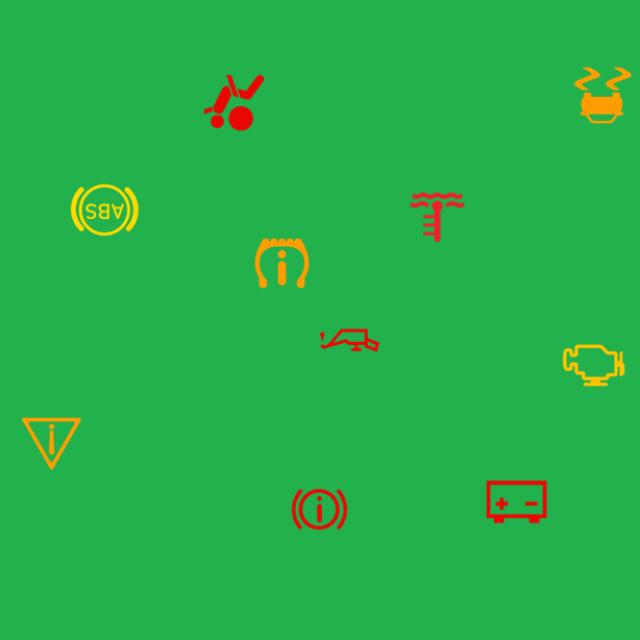Anti Lock Braking System: (68, 173, 142, 247)
Braking System Issue: (282, 472, 356, 546)
Charging System Issue: (479, 465, 554, 539)
Check Engine: (556, 328, 630, 402)
Electronic Stability Problem -ESP-: (566, 59, 640, 132)
Engine Overheating Warning Light: (400, 180, 474, 254)
Low Engine Oil Warning Light: (313, 304, 387, 378)
Low Tire Pressure Warning Light: (245, 226, 319, 300)
Master warning light: (15, 406, 89, 481)
SRS-Airbag: (197, 66, 271, 140)
